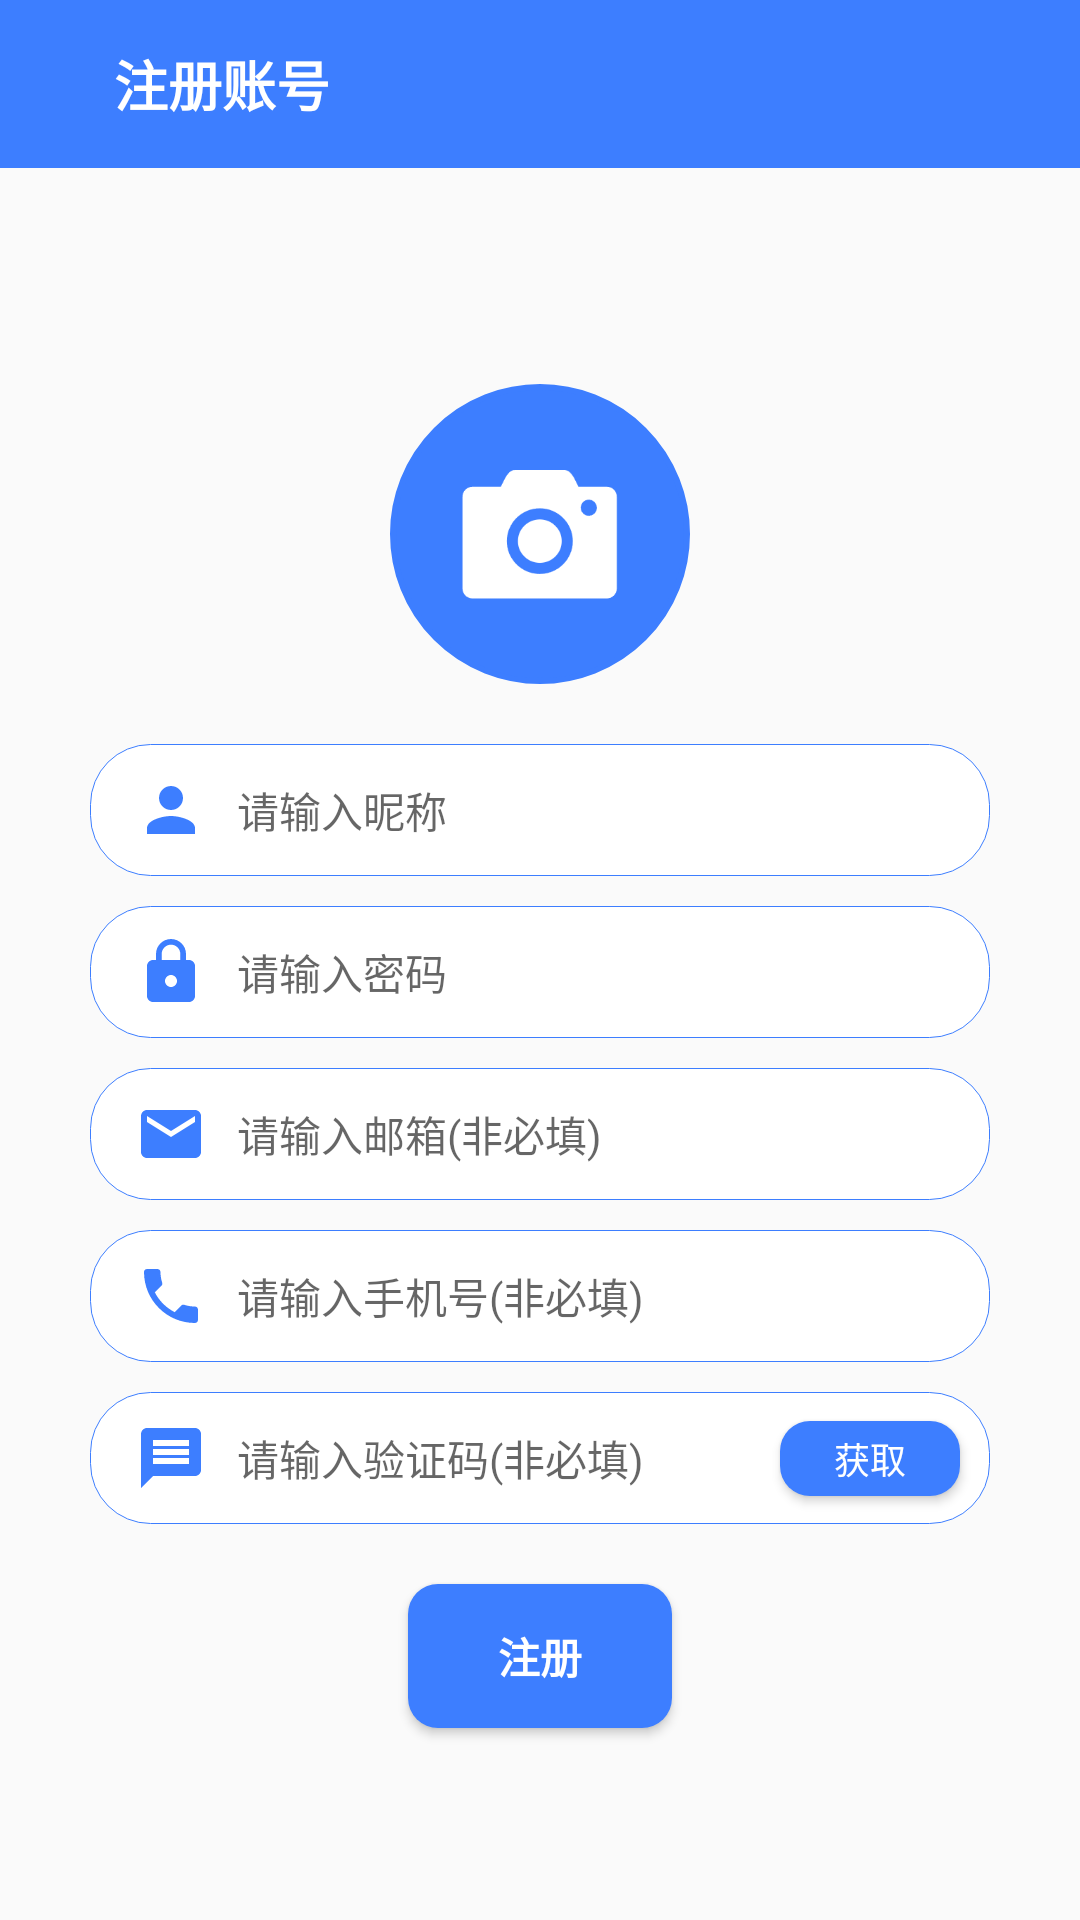

Point at icon controls on the screen. Image size 1080w x 1920h, points as (x,y).
camera: (540,534)
